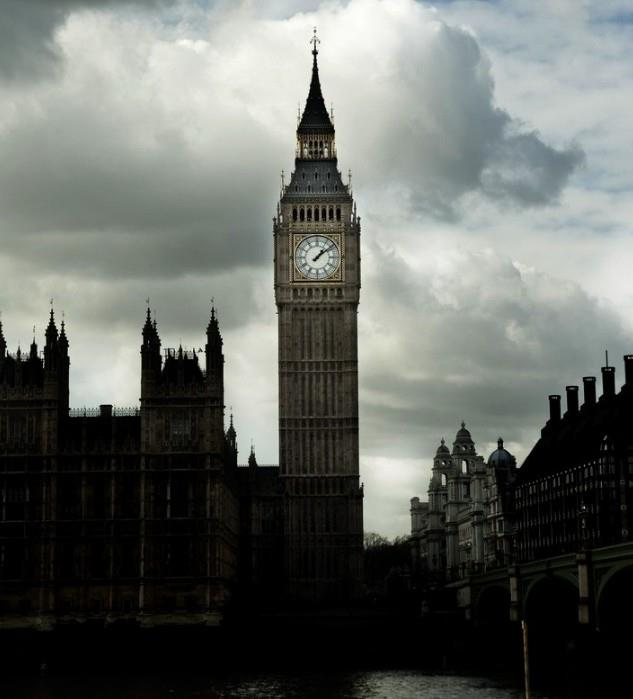Elizabeth_Tower: (274, 22, 369, 522)
